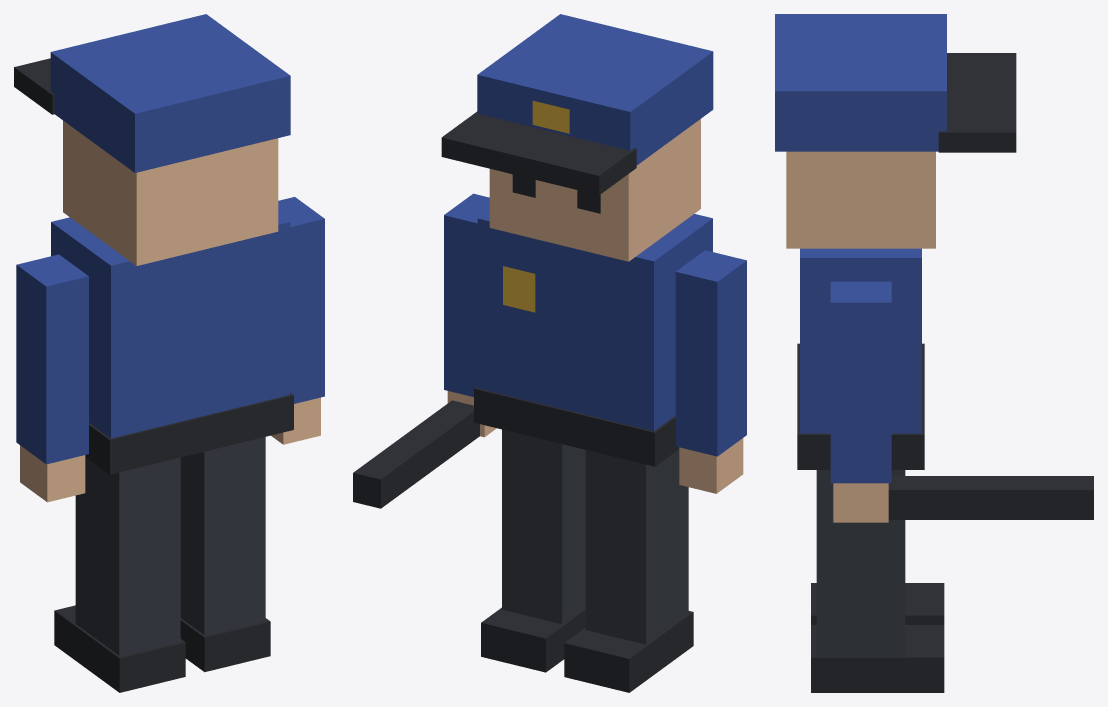
File: H_Police.fbx
The picture shows the model from 3 angles, left to right: view 1: azimuth 30°, elevation 25°; view 2: azimuth 150°, elevation 25°; view 3: azimuth 270°, elevation 25°; orthographic projection. The views are drawn at different scales.
Parts seen in each view (by area): view 1: H_Police.002; view 2: H_Police.002; view 3: H_Police.002.
Part boxes in pixels (<box>): H_Police.002: <box>14,14,324,692</box>; H_Police.002: <box>353,14,746,692</box>; H_Police.002: <box>775,14,1093,692</box>.
Size of the model in its own units: 0.59 by 1.2 by 0.575.
